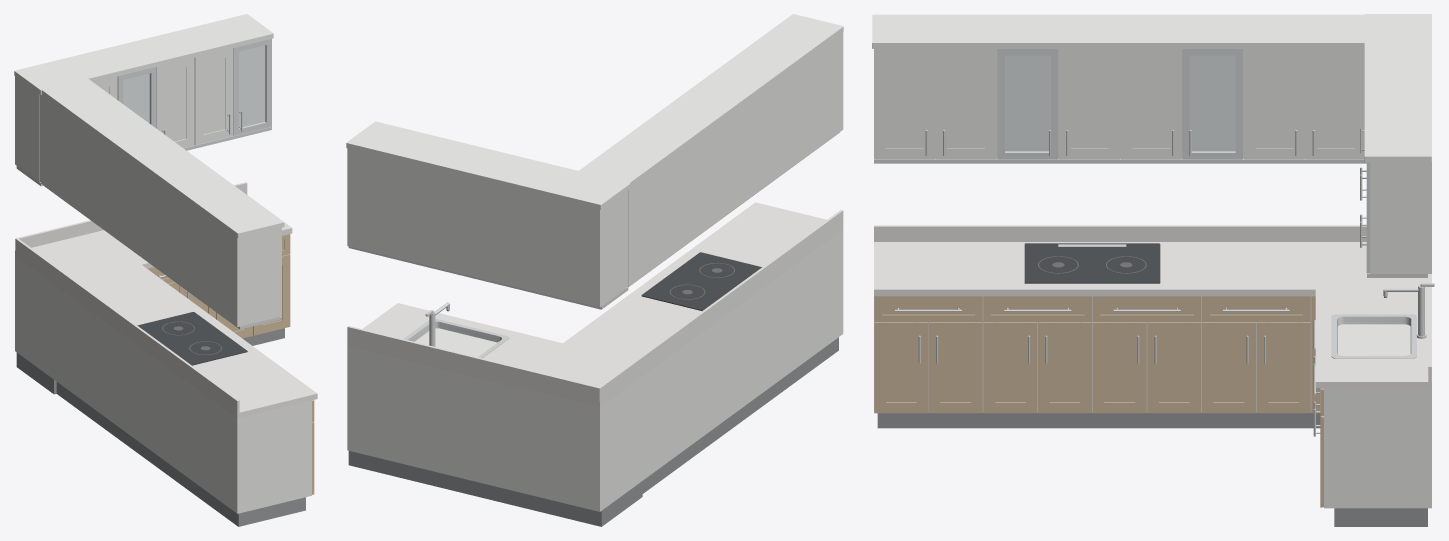
3 views of the same model, side by side, from view 1: azimuth 30°, elevation 25°; view 2: azimuth 150°, elevation 25°; view 3: azimuth 270°, elevation 25° (orthographic). The views are drawn at different scales.
Parts seen in each view (by area): view 1: Tủ bếp chữ L Dài cạnh chính=1800; Dài cạnh phụ=3000; Sâu tủ ; view 2: Tủ bếp chữ L Dài cạnh chính=1800; Dài cạnh phụ=3000; Sâu tủ ; view 3: Tủ bếp chữ L Dài cạnh chính=1800; Dài cạnh phụ=3000; Sâu tủ .
Part boxes in pixels (<box>): Tủ bếp chữ L Dài cạnh chính=1800; Dài cạnh phụ=3000; Sâu tủ : <box>14,14,317,526</box>; Tủ bếp chữ L Dài cạnh chính=1800; Dài cạnh phụ=3000; Sâu tủ : <box>346,14,843,526</box>; Tủ bếp chữ L Dài cạnh chính=1800; Dài cạnh phụ=3000; Sâu tủ : <box>872,14,1434,526</box>.
Bounding box in the file's own units: 1.82 × 2.2 × 3.02.
